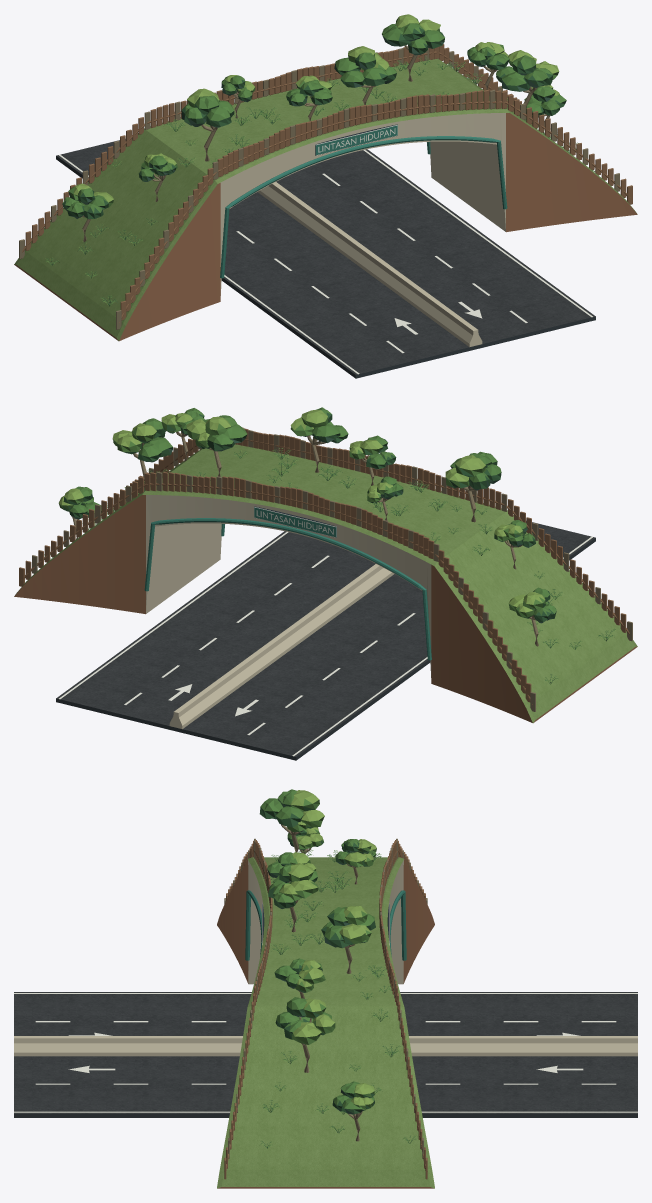
The picture shows the model from 3 angles, top to bottom: view 1: azimuth 30°, elevation 25°; view 2: azimuth 150°, elevation 25°; view 3: azimuth 270°, elevation 25°; orthographic projection. The views are drawn at different scales.
Parts seen in each view (by area): view 1: Planted shell and abutments, Carriageway, Timber visual baffles, Layered tree crowns, Median parapet, Understorey, Portal reveal bead, Screen walers, Branch framework, Portal name, Edge paint, Lane dividers; view 2: Planted shell and abutments, Carriageway, Timber visual baffles, Layered tree crowns, Median parapet, Portal reveal bead, Understorey, Screen walers, Branch framework, Portal name, Edge paint, Lane dividers; view 3: Planted shell and abutments, Carriageway, Layered tree crowns, Median parapet, Timber visual baffles, Understorey, Edge paint, Portal reveal bead, Lane dividers, Branch framework, Screen walers.
Boxes of the visible parts, x1,y1,x2,y2 form: Planted shell and abutments: [14, 58, 637, 341]; Carriageway: [56, 138, 595, 378]; Timber visual baffles: [19, 44, 632, 329]; Layered tree crowns: [62, 14, 566, 219]; Median parapet: [174, 111, 482, 347]; Understorey: [45, 56, 595, 306]; Portal reveal bead: [220, 136, 507, 278]; Screen walers: [22, 51, 630, 322]; Branch framework: [82, 45, 549, 242]; Portal name: [315, 124, 397, 155]; Edge paint: [59, 150, 592, 374]; Lane dividers: [236, 173, 527, 353]; Planted shell and abutments: [14, 444, 637, 723]; Carriageway: [56, 521, 595, 760]; Timber visual baffles: [19, 427, 632, 711]; Layered tree crowns: [58, 407, 556, 623]; Median parapet: [169, 493, 477, 729]; Portal reveal bead: [144, 518, 431, 660]; Understorey: [44, 448, 616, 684]; Screen walers: [21, 439, 629, 704]; Branch framework: [69, 431, 538, 646]; Portal name: [254, 506, 336, 537]; Edge paint: [59, 531, 592, 756]; Lane dividers: [124, 555, 415, 735]; Planted shell and abutments: [217, 857, 434, 1188]; Carriageway: [14, 992, 637, 1117]; Layered tree crowns: [259, 789, 376, 1114]; Median parapet: [14, 1036, 637, 1056]; Timber visual baffles: [224, 838, 427, 1179]; Understorey: [261, 849, 417, 1148]; Edge paint: [14, 993, 637, 1112]; Portal reveal bead: [245, 890, 406, 960]; Lane dividers: [35, 1021, 616, 1084]; Branch framework: [281, 824, 362, 1141]; Screen walers: [226, 850, 425, 1170].
Bounding box in the file's own units: 32 × 11.51 × 32.
15 materials, 2 textured.
